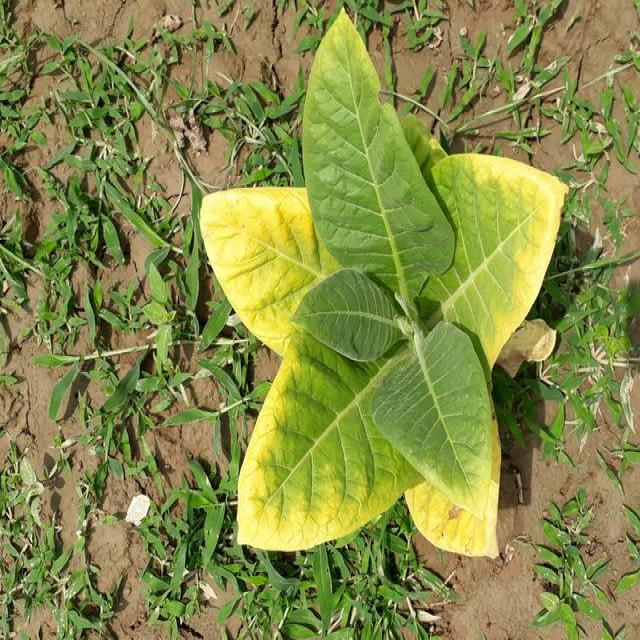crop: (195, 5, 569, 580)
